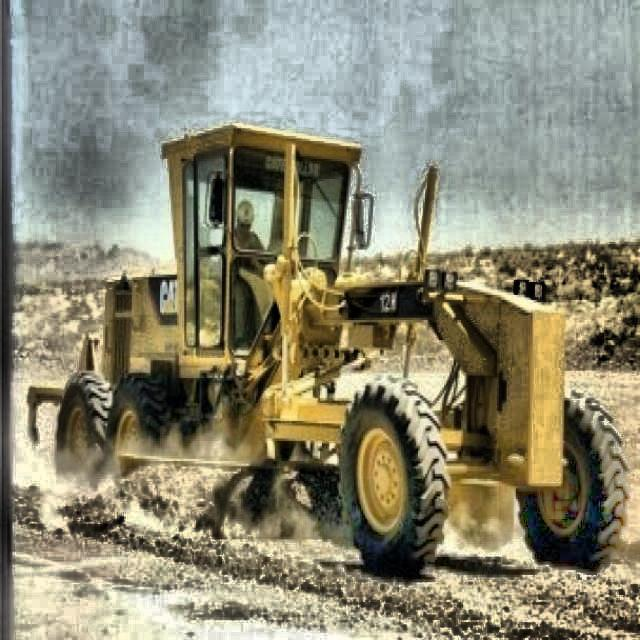bull_dozer/loader/grader: (29, 122, 628, 580)
person: (232, 200, 268, 348)
